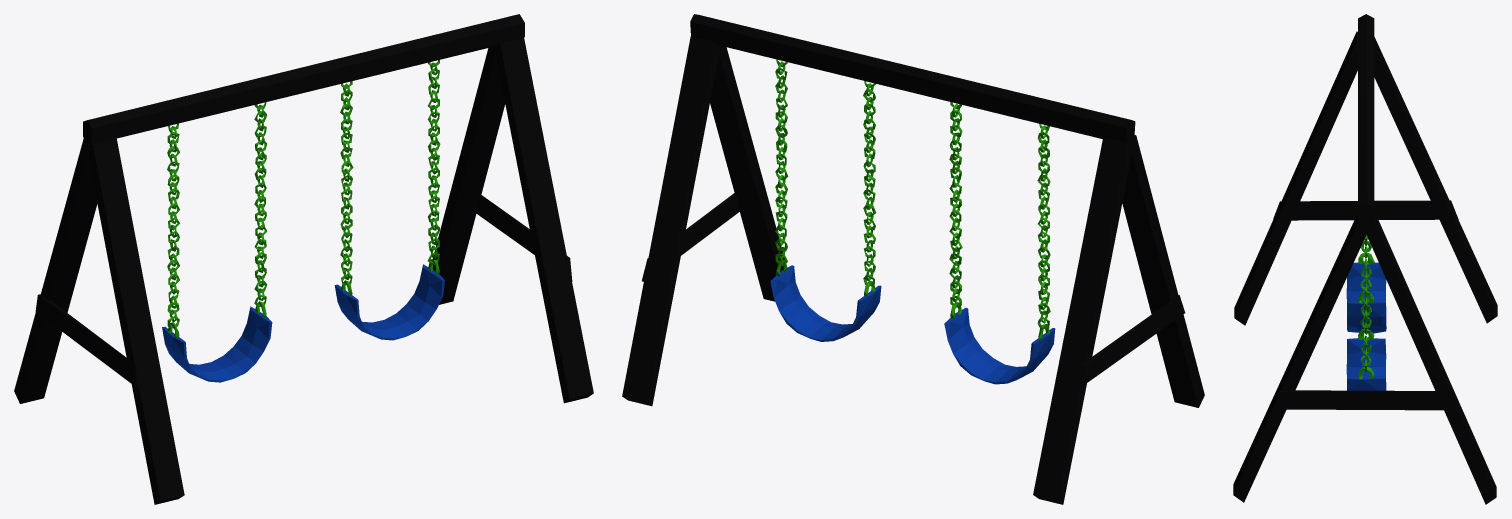
The model's file is SwingSet_AD.fbx.
3 views of the same model, side by side, from view 1: azimuth 30°, elevation 25°; view 2: azimuth 150°, elevation 25°; view 3: azimuth 270°, elevation 25° (orthographic). The views are drawn at different scales.
Visible parts, largest first — view 1: SwingSet_AD; view 2: SwingSet_AD; view 3: SwingSet_AD.
Part boxes in pixels (left/top/right/bottom): SwingSet_AD: left=14, top=14, right=593, bottom=504; SwingSet_AD: left=622, top=14, right=1204, bottom=504; SwingSet_AD: left=1233, top=14, right=1497, bottom=504.
Bounding box in the file's own units: 298 × 218 × 174.
